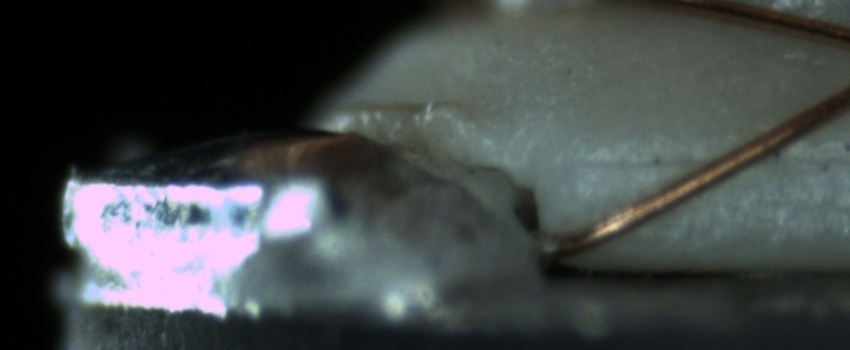DL: (573, 125, 840, 192)
